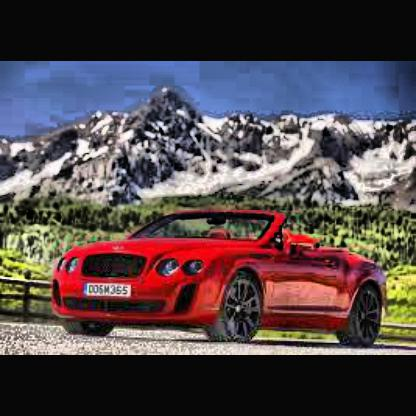Bentley Continental Supersports Conv- Convertible 2012: (51, 206, 390, 347)
